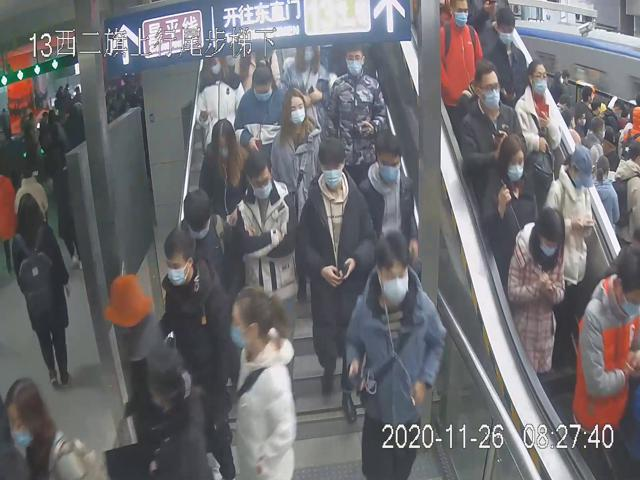person: (343, 227, 447, 480), (295, 132, 377, 427), (161, 222, 237, 475), (227, 275, 299, 480), (220, 147, 298, 317), (504, 204, 568, 392), (458, 56, 525, 193), (476, 131, 541, 267), (325, 42, 387, 181), (358, 129, 421, 265), (268, 87, 324, 214), (514, 55, 563, 184), (229, 58, 289, 162), (175, 190, 233, 295), (196, 118, 253, 220), (437, 1, 485, 122)
